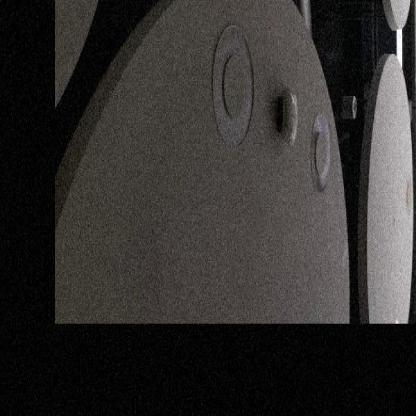light_off: (198, 1, 260, 162), (306, 90, 334, 202)
